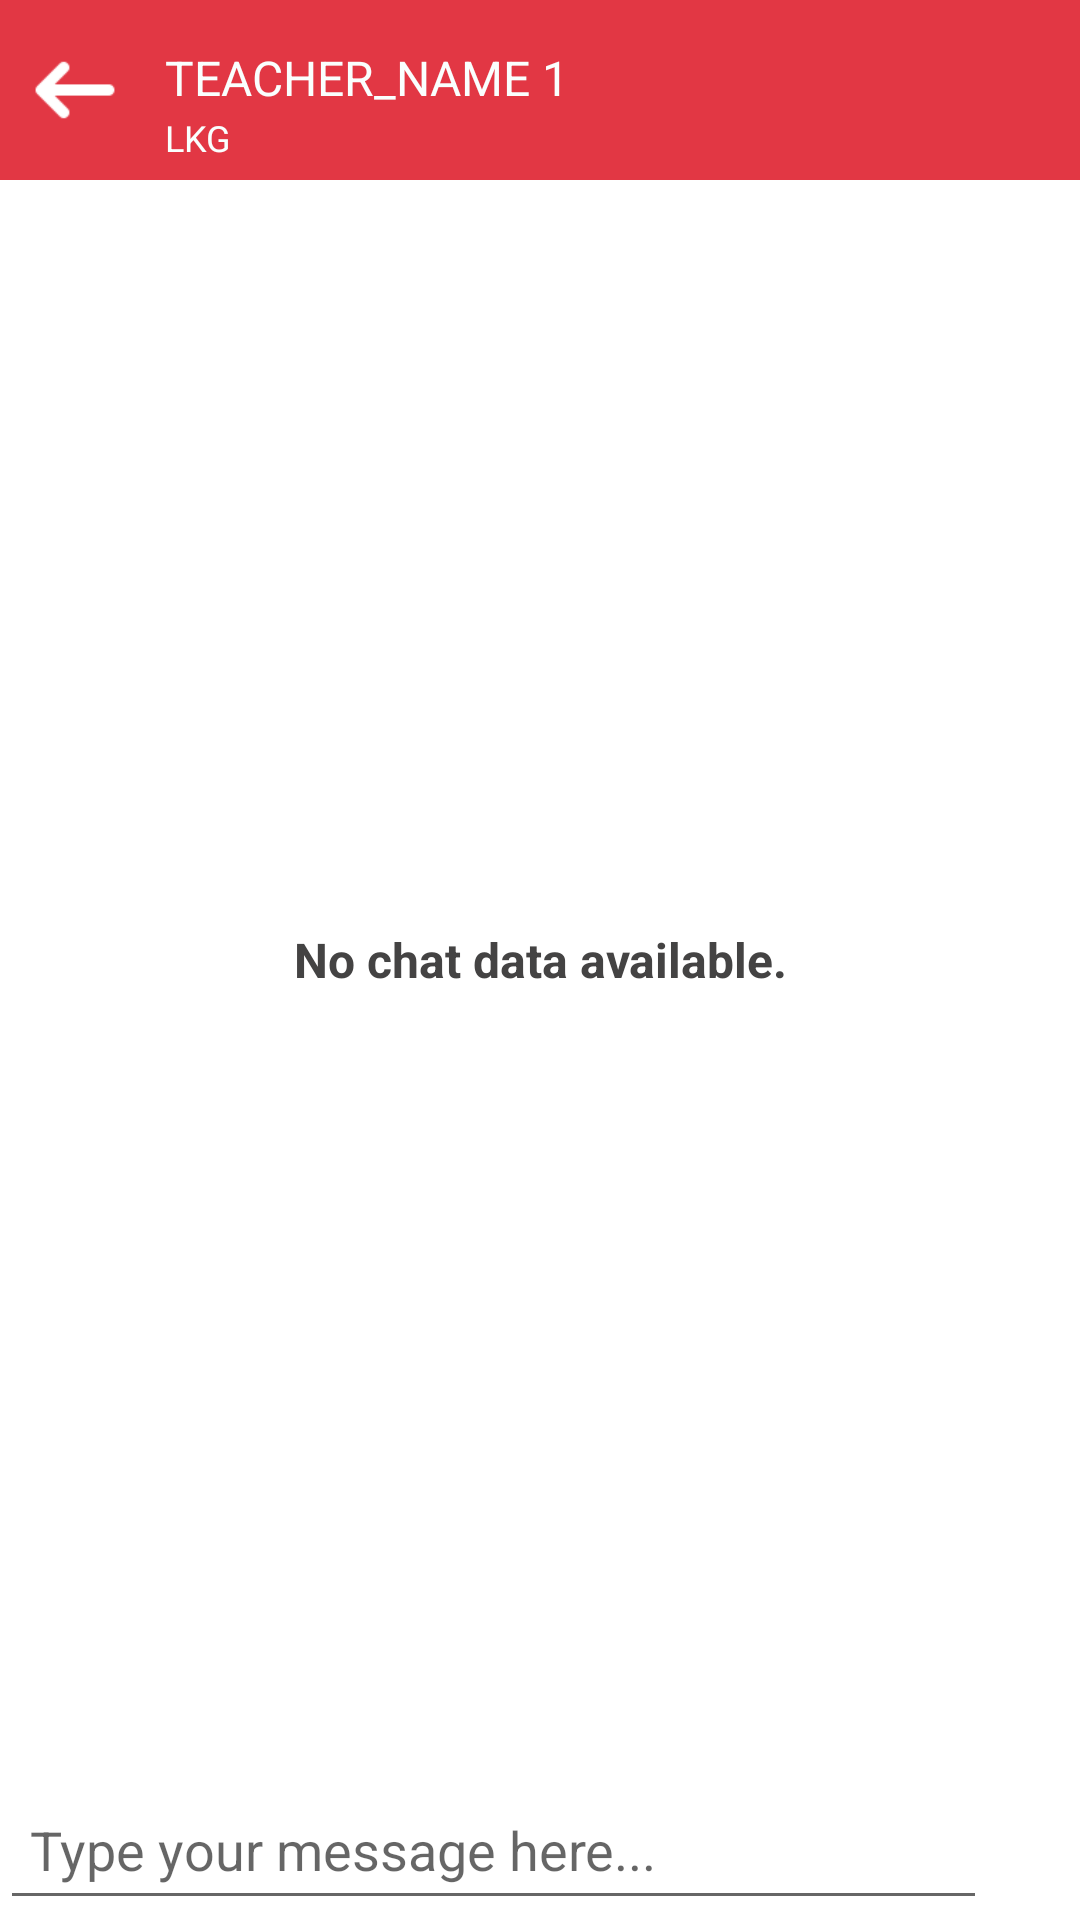

Point at icon controls on the screen. Image size 1080 × 1920, points as (x=x, y=y).
backarrow: (x=75, y=90)
